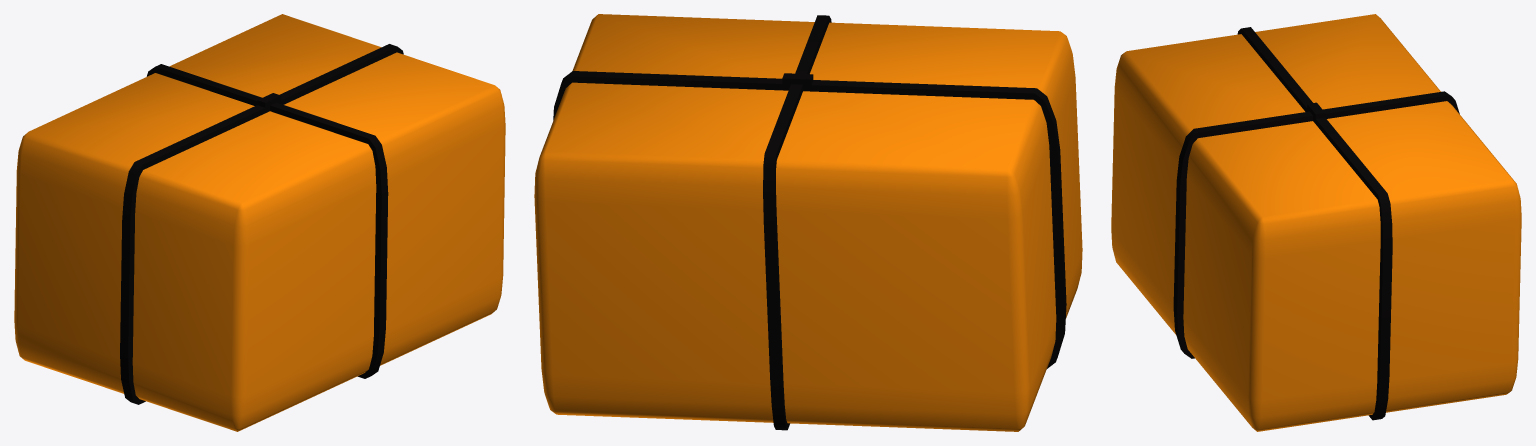
Rendered from StrawBox.fbx.
3 renders of one model, left to right at view 1: azimuth 30°, elevation 25°; view 2: azimuth 150°, elevation 25°; view 3: azimuth 270°, elevation 25°, orthographic. The views are drawn at different scales.
Parts seen in each view (by area): view 1: Object061; view 2: Object061; view 3: Object061.
Part boxes in pixels (<box>): Object061: <box>14,14,505,431</box>; Object061: <box>534,14,1082,431</box>; Object061: <box>1111,14,1521,431</box>.
Size of the model in its own units: 27.95 by 15.42 by 23.77.
